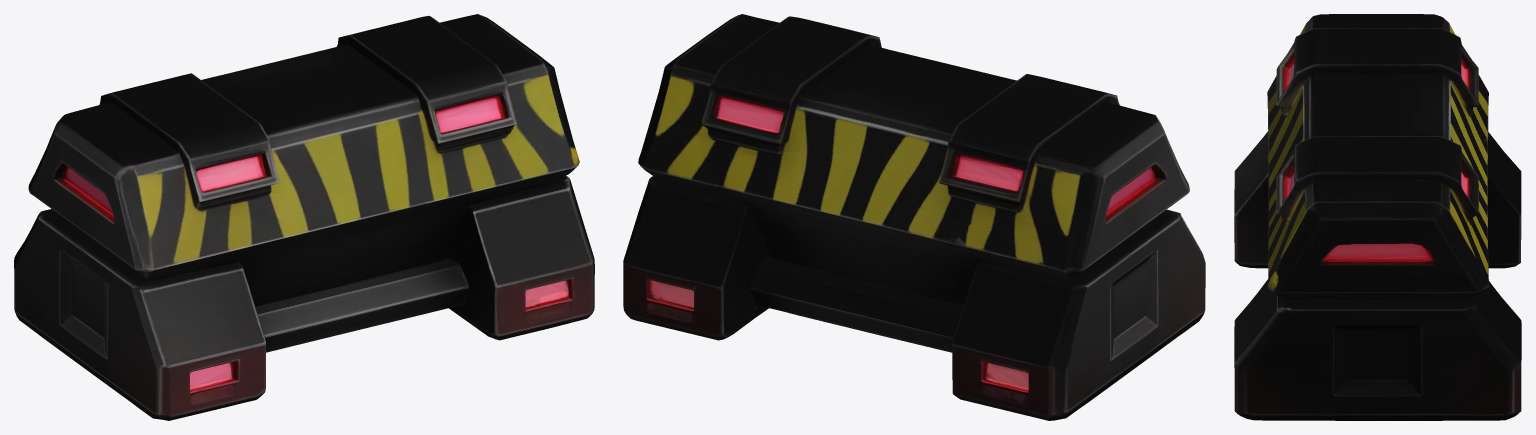
The model's file is obstacle_hazard_barrier.glb.
The picture shows the model from 3 angles, left to right: view 1: azimuth 30°, elevation 25°; view 2: azimuth 150°, elevation 25°; view 3: azimuth 270°, elevation 25°; orthographic projection. The views are drawn at different scales.
Visible parts, largest first — view 1: hazard_barrier_mesh; view 2: hazard_barrier_mesh; view 3: hazard_barrier_mesh.
Boxes of the visible parts, left/top/right/bottom form: hazard_barrier_mesh: left=14, top=14, right=594, bottom=420; hazard_barrier_mesh: left=623, top=14, right=1205, bottom=420; hazard_barrier_mesh: left=1234, top=14, right=1521, bottom=420.
Size of the model in its own units: 0.9927 by 0.514 by 0.5964.
1 material, 1 textured.
